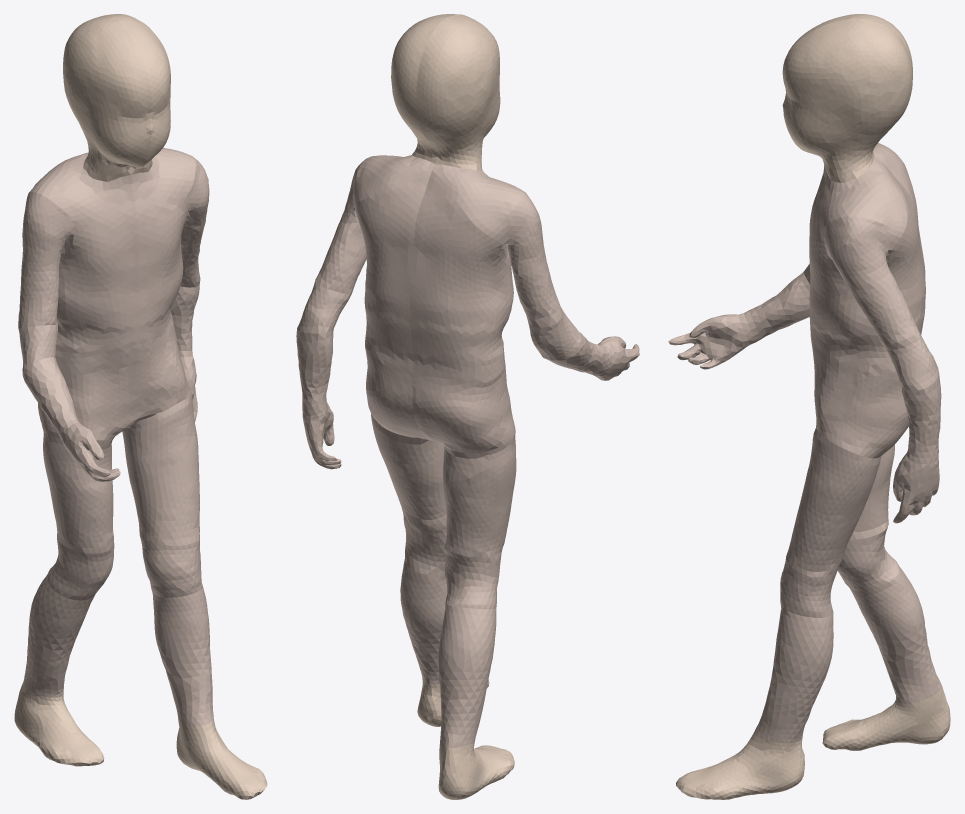
Rendered from piper-6yo-pedestrian.glb.
3 renders of one model, left to right at view 1: azimuth 30°, elevation 25°; view 2: azimuth 150°, elevation 25°; view 3: azimuth 270°, elevation 25°, orthographic. The views are drawn at different scales.
Visible parts, largest first — view 1: FL_R_Trunk_3D, FL_L_Trunk_3D, FL_L_Thigh_3D, HE_SK_HeadSkinRight, FL_L_LowerLeg_3D, FL_R_Thigh_3D, FL_R_ArmUpper_3D, FL_R_LowerLeg_3D, LX_SK_R_FootSkin_2D, HE_SK_NeckSkinRight, SK_R_Trunk_2D, LX_SK_L_FootSkin_2D (+15 smaller); view 2: FL_R_Trunk_3D, FL_L_Trunk_3D, HE_SK_HeadSkinRight, FL_R_Thigh_3D, FL_R_LowerLeg_3D, SK_R_Trunk_2D, FL_L_Thigh_3D, FL_R_ArmUpper_3D, FL_L_LowerLeg_3D, LX_SK_R_FootSkin_2D, FL_L_ArmUpper_3D, HE_SK_HeadSkinLeft (+15 smaller); view 3: FL_L_Trunk_3D, HE_SK_HeadSkinLeft, FL_L_Thigh_3D, FL_L_LowerLeg_3D, FL_R_LowerLeg_3D, FL_L_ArmUpper_3D, LX_SK_L_FootSkin_2D, LX_SK_R_FootSkin_2D, HE_SK_NeckSkinLeft, SK_L_Trunk_2D, SK_R_Hand_2D_Rigid, FL_L_Knee_3D (+10 smaller).
Boxes of the visible parts, bbox=[...] form: FL_R_Trunk_3D: bbox=[30, 152, 138, 440]; FL_L_Trunk_3D: bbox=[131, 147, 195, 424]; FL_L_Thigh_3D: bbox=[122, 395, 199, 540]; HE_SK_HeadSkinRight: bbox=[63, 15, 151, 123]; FL_L_LowerLeg_3D: bbox=[151, 582, 213, 726]; FL_R_Thigh_3D: bbox=[42, 427, 114, 553]; FL_R_ArmUpper_3D: bbox=[18, 191, 76, 328]; FL_R_LowerLeg_3D: bbox=[24, 572, 95, 697]; LX_SK_R_FootSkin_2D: bbox=[14, 680, 104, 766]; HE_SK_NeckSkinRight: bbox=[75, 110, 151, 181]; SK_R_Trunk_2D: bbox=[36, 154, 138, 439]; LX_SK_L_FootSkin_2D: bbox=[176, 719, 267, 799]; FL_R_Trunk_3D: bbox=[410, 164, 525, 453]; FL_L_Trunk_3D: bbox=[354, 155, 434, 439]; HE_SK_HeadSkinRight: bbox=[416, 14, 499, 135]; FL_R_Thigh_3D: bbox=[443, 432, 516, 557]; FL_R_LowerLeg_3D: bbox=[438, 599, 496, 748]; SK_R_Trunk_2D: bbox=[410, 164, 523, 452]; FL_L_Thigh_3D: bbox=[371, 413, 446, 528]; FL_R_ArmUpper_3D: bbox=[501, 193, 562, 327]; FL_L_LowerLeg_3D: bbox=[400, 559, 447, 684]; LX_SK_R_FootSkin_2D: bbox=[438, 743, 514, 799]; FL_L_ArmUpper_3D: bbox=[315, 160, 366, 294]; HE_SK_HeadSkinLeft: bbox=[391, 14, 457, 133]; FL_L_Trunk_3D: bbox=[809, 158, 925, 458]; HE_SK_HeadSkinLeft: bbox=[782, 18, 912, 131]; FL_L_Thigh_3D: bbox=[788, 428, 880, 571]; FL_L_LowerLeg_3D: bbox=[754, 604, 833, 743]; FL_R_LowerLeg_3D: bbox=[846, 563, 942, 703]; FL_L_ArmUpper_3D: bbox=[823, 216, 918, 344]; LX_SK_L_FootSkin_2D: bbox=[676, 733, 804, 799]; LX_SK_R_FootSkin_2D: bbox=[822, 687, 950, 750]; HE_SK_NeckSkinLeft: bbox=[782, 89, 894, 182]; SK_L_Trunk_2D: bbox=[809, 159, 925, 457]; SK_R_Hand_2D_Rigid: bbox=[668, 314, 749, 369]; FL_L_Knee_3D: bbox=[780, 550, 841, 617].
Bounding box in the file's own units: 376 × 1163 × 397.
